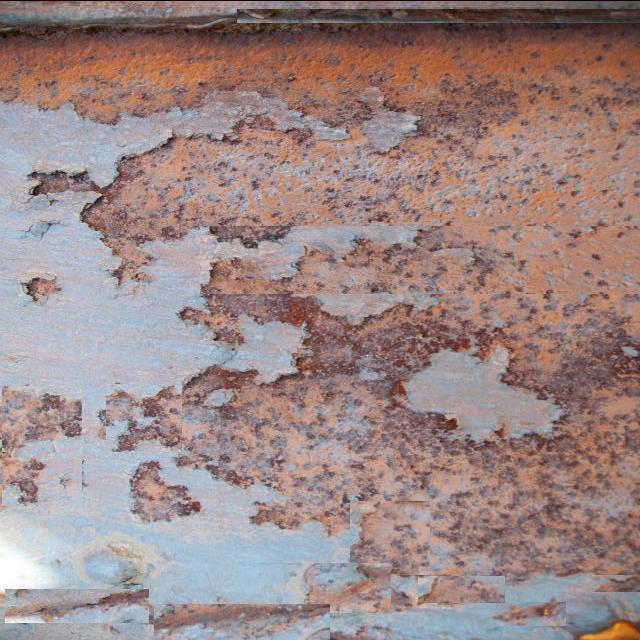Pitting Corrosion: (0, 27, 639, 610)
